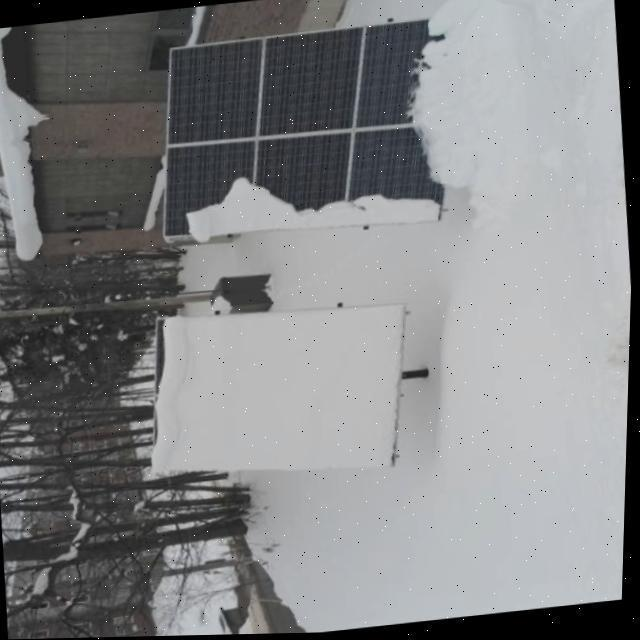Anomaly Solar Panel: (163, 17, 454, 236), (153, 302, 408, 469)
Snow: (154, 302, 405, 469), (185, 176, 443, 233), (404, 16, 451, 186)
